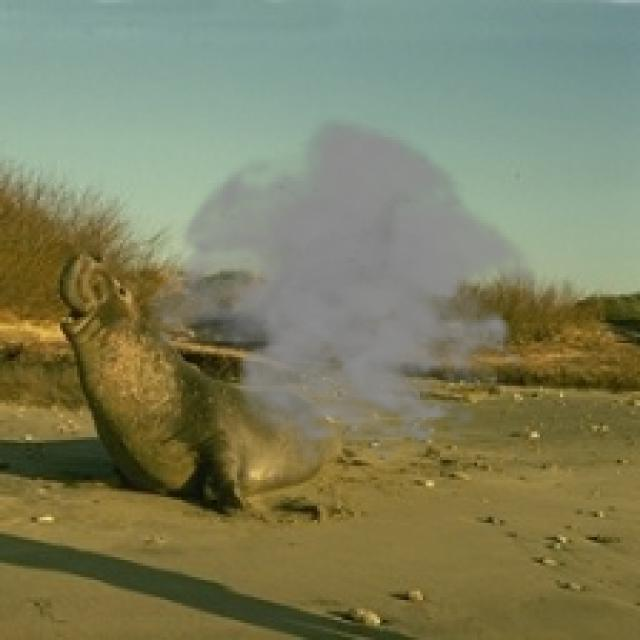smoke: (140, 114, 551, 466)
